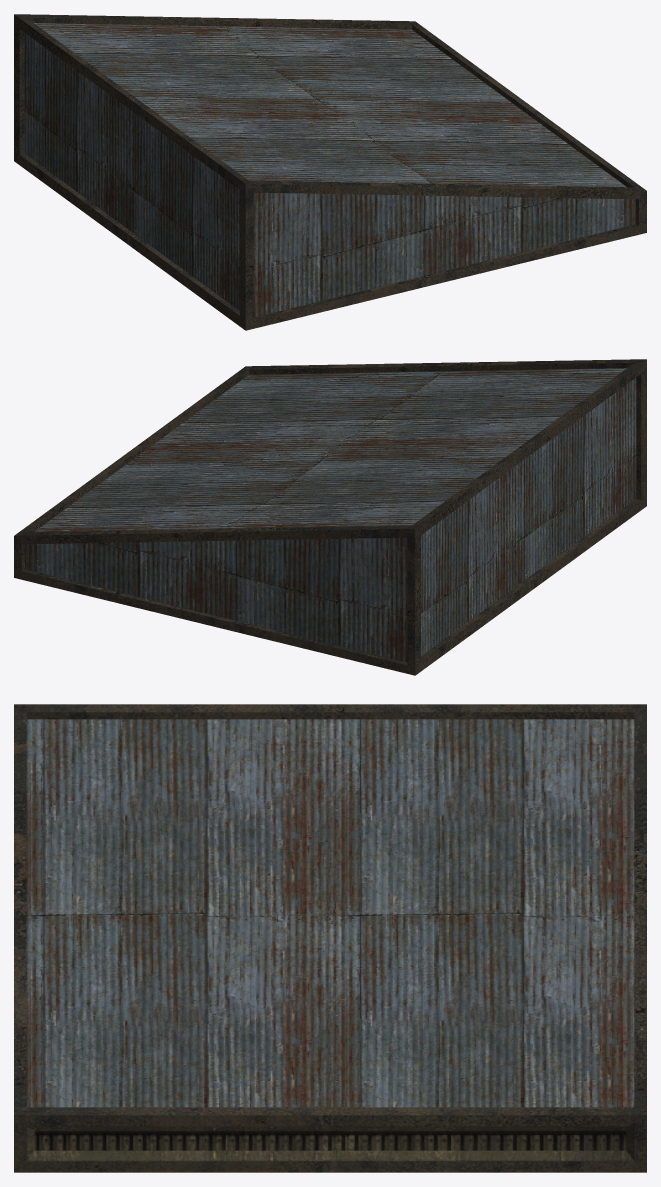
File: roof_mh_2.obj
3 views of the same model, one above another, from view 1: azimuth 30°, elevation 25°; view 2: azimuth 150°, elevation 25°; view 3: azimuth 270°, elevation 25° (orthographic). The views are drawn at different scales.
Visible parts, largest first — view 1: roof_mh_2; view 2: roof_mh_2; view 3: roof_mh_2.
Boxes of the visible parts, box(x1,y1,x2,y2) form: roof_mh_2: box(14, 14, 646, 330); roof_mh_2: box(14, 359, 646, 675); roof_mh_2: box(14, 704, 646, 1172).
Size of the model in its own units: 4 by 1.4 by 4.
